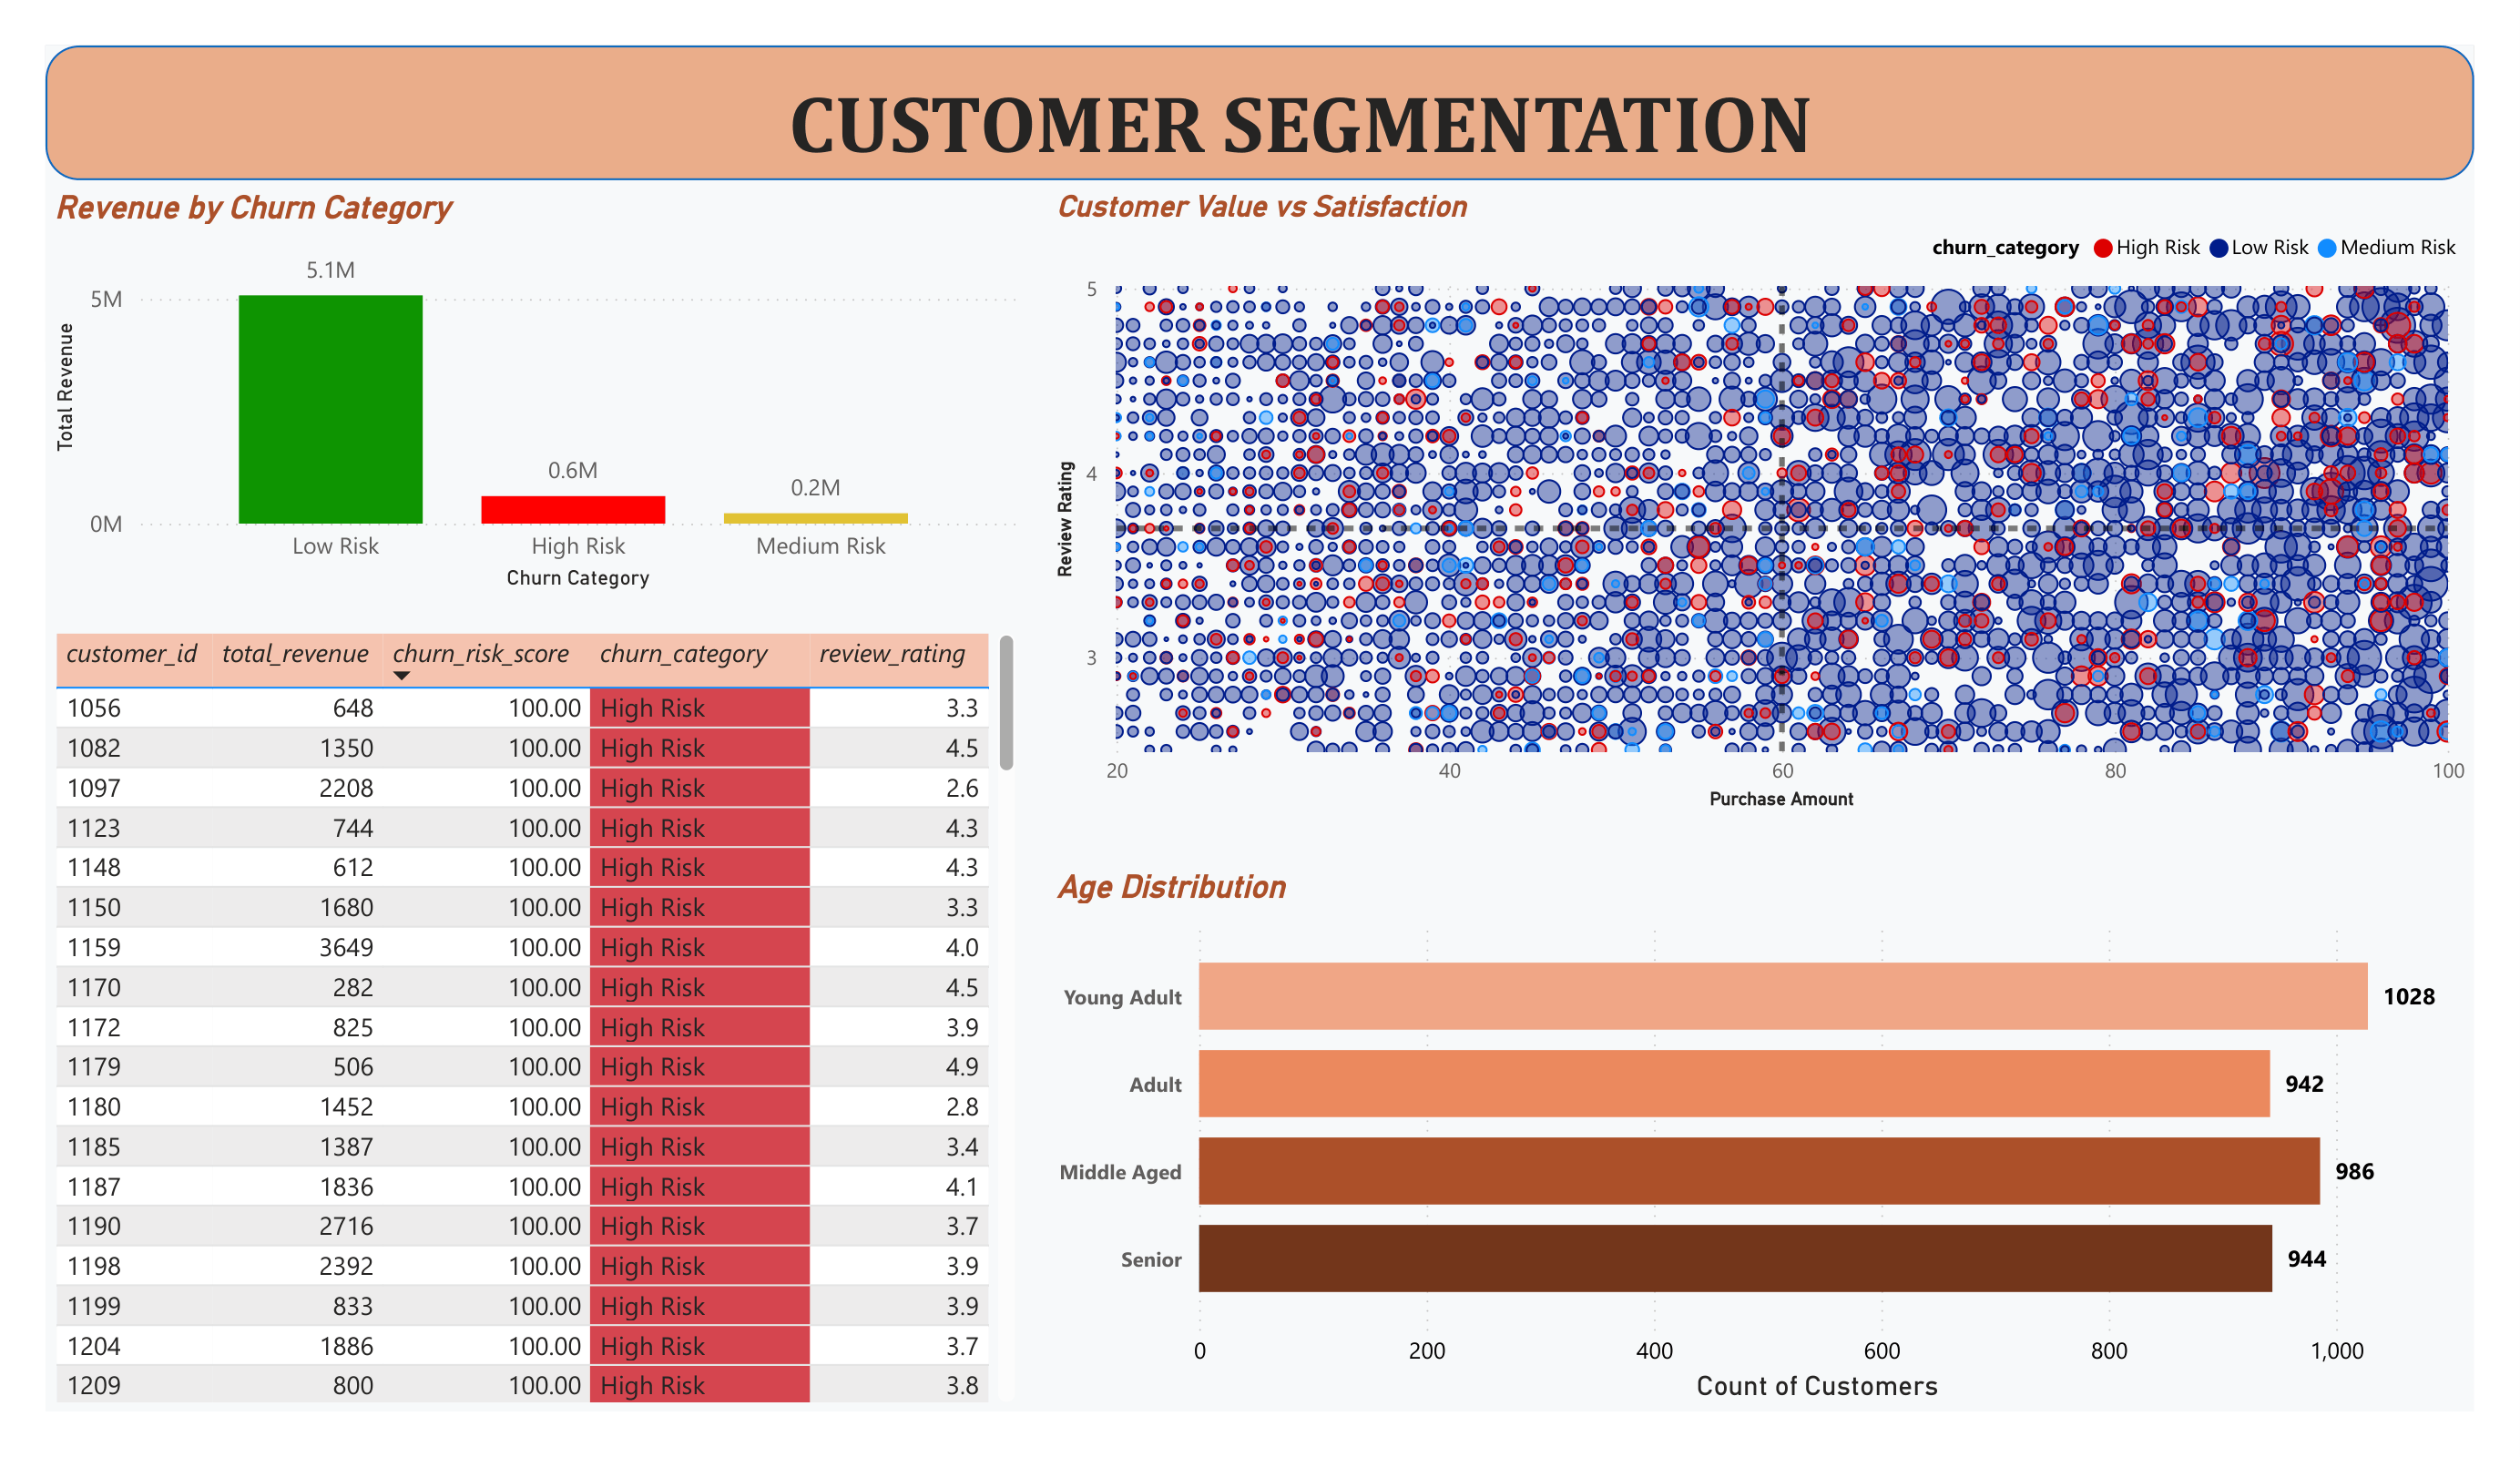

The dashboard page shown, as its layout file describes it:
{"tool":"powerbi","page":{"name":"Page 3","canvas":[1280,720],"ordinal":2},"visuals":[{"type":"shape","box":[0,0,1280,70.9],"z":0},{"type":"textbox","box":[372.5,10,577.5,61.2],"z":1000},{"type":"clusteredColumnChart","title":"Revenue by Churn Category","fields":{"Category":["Advanced_retail_analytics.churn_category"],"Y":["Advanced_retail_analytics.Total Revenue"]},"box":[0,74.6,516,217.7],"z":2000},{"type":"scatterChart","title":"Customer Value vs Satisfaction","fields":{"X":["Advanced_retail_analytics.purchase_amount"],"Y":["Advanced_retail_analytics.review_rating"],"Series":["Advanced_retail_analytics.churn_category"],"Size":["Advanced_retail_analytics.Total Revenue"]},"box":[528.4,74.8,751.6,331.8],"z":3000},{"type":"clusteredBarChart","title":"Age Distribution","fields":{"Y":["CountNonNull(Advanced_retail_analytics.customer_id)"],"Category":["Advanced_retail_analytics.age_group"]},"box":[528.4,433.1,751.6,287.1],"z":4000},{"type":"tableEx","fields":{"Values":["Advanced_retail_analytics.customer_id","Advanced_retail_analytics.total_revenue","Advanced_retail_analytics.churn_risk_score","Advanced_retail_analytics.churn_category","Advanced_retail_analytics.review_rating"]},"box":[0,305,516.2,415],"z":5000}]}

Visuals, with their boxes on the page's 1280x720 design canvas (x1, y1, x2, y2). These are canvas units, not pixel positions in the 2520x1457 screenshot, which may show the page scaled, cropped or inside an application window:
shape: 0 0 1280 71
textbox: 372 10 950 71
"Revenue by Churn Category" clusteredColumnChart: 0 75 516 292
"Customer Value vs Satisfaction" scatterChart: 528 75 1280 407
"Age Distribution" clusteredBarChart: 528 433 1280 720
tableEx - Advanced_retail_analytics.customer_id x Advanced_retail_analytics.total_revenue: 0 305 516 720
